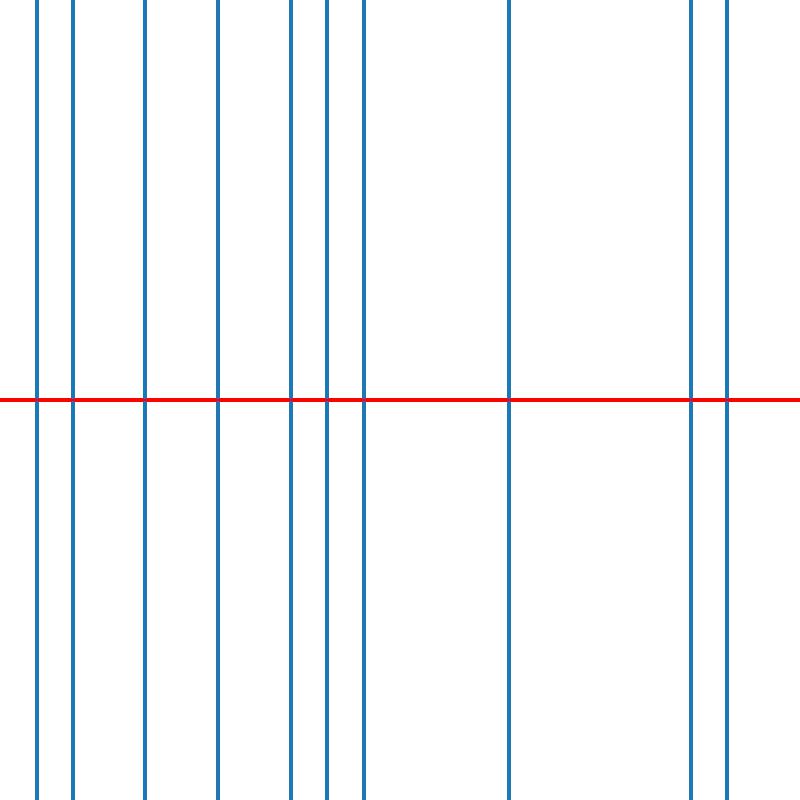root: (32, 396, 40, 404), (141, 396, 149, 404), (323, 396, 330, 404), (723, 396, 730, 404), (687, 396, 694, 404), (69, 396, 76, 404), (360, 396, 367, 404), (214, 396, 221, 404), (505, 396, 512, 404), (287, 396, 294, 404)
